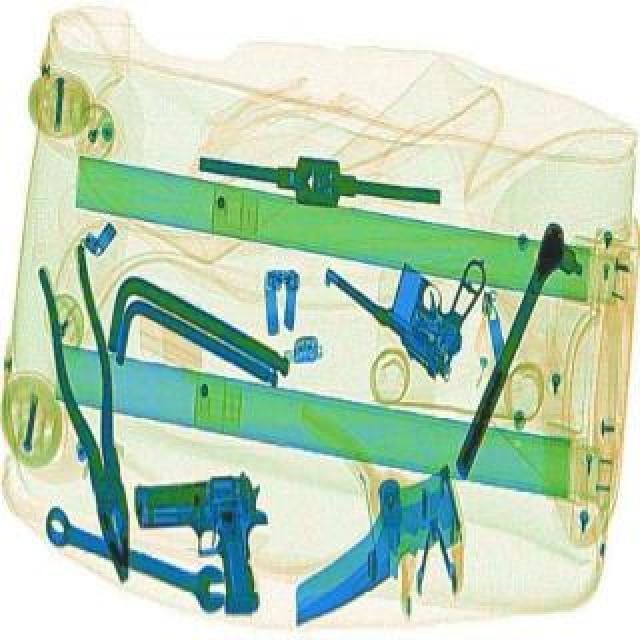gun: (312, 198, 526, 388), (132, 474, 284, 628)
scissors: (36, 508, 238, 620)
wrench: (34, 248, 156, 590)
